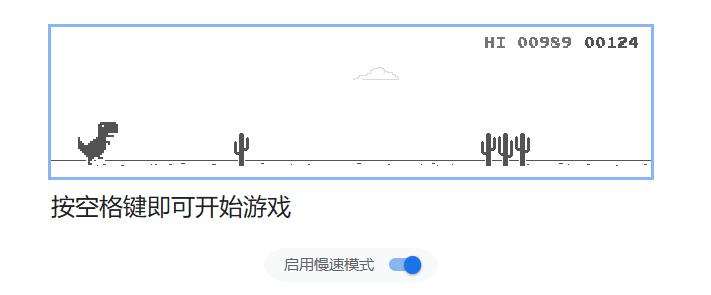cactus: (479, 132, 531, 167), (232, 132, 250, 166)
dino: (75, 121, 119, 166)
